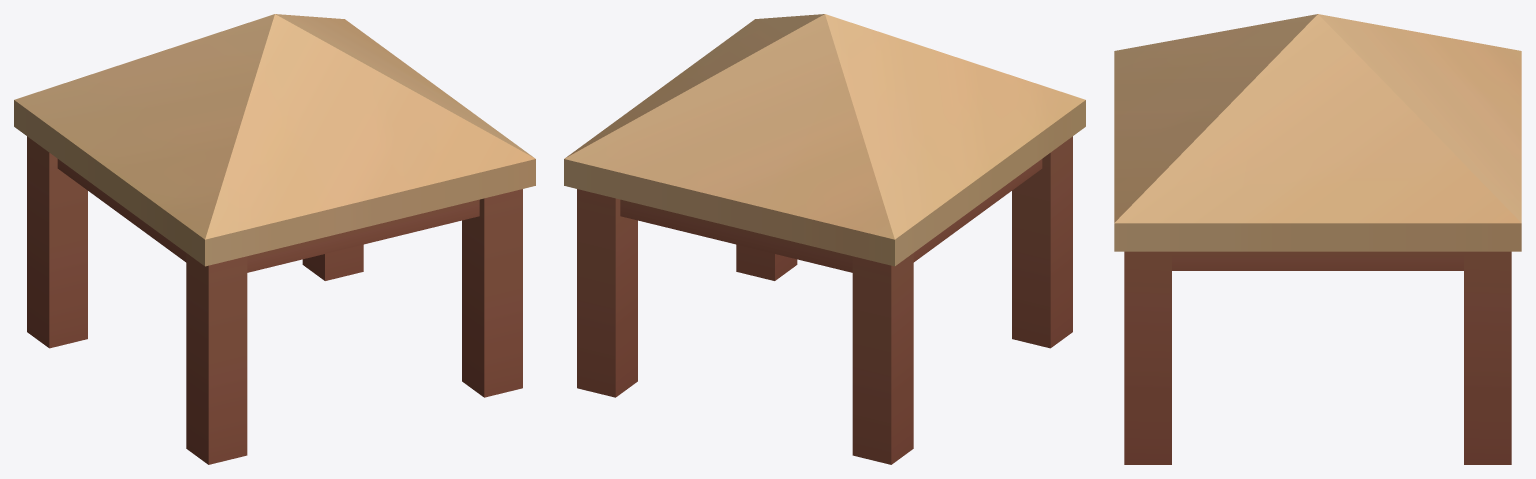
Rendered from kay-tenda.gltf.
3 renders of one model, left to right at view 1: azimuth 30°, elevation 25°; view 2: azimuth 150°, elevation 25°; view 3: azimuth 270°, elevation 25°, orthographic. The views are drawn at different scales.
Visible parts, largest first — view 1: tent; view 2: tent; view 3: tent.
Part boxes in pixels (<box>): tent: <box>14,14,535,464</box>; tent: <box>564,14,1085,464</box>; tent: <box>1114,14,1521,464</box>.
Bounding box in the file's own units: 2.58 × 2.58 × 2.58.
1 material, 1 textured.
